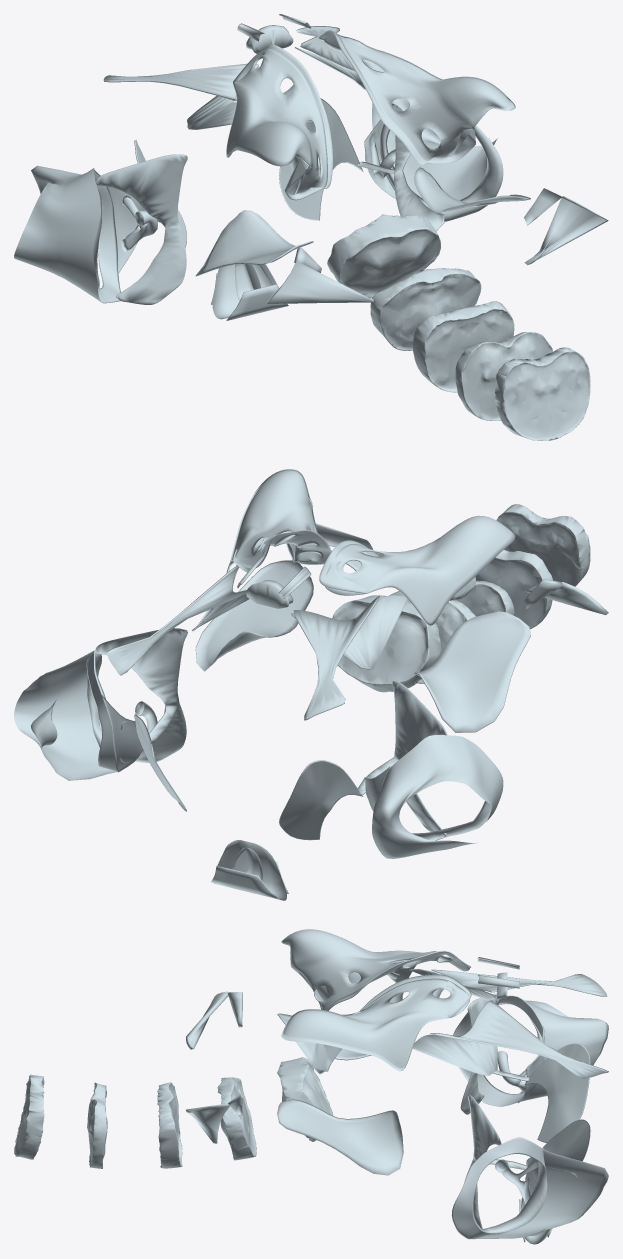
The model's file is abdomen__joints.778252c00b.glb.
3 views of the same model, one above another, from view 1: azimuth 30°, elevation 25°; view 2: azimuth 150°, elevation 25°; view 3: azimuth 270°, elevation 25° (orthographic). The views are drawn at different scales.
Parts seen in each view (by area): view 1: Posterior sacro-iliac ligament.l, Posterior sacro-iliac ligament.r, Articular capsule of hip joint.r, Intervertebral disc L1-L2, Intervertebral disc L5-S1, Triradiate cartilage.r, Intervertebral disc L4-L5, Intervertebral disc L3-L4, Intervertebral disc L2-L3, Anterior sacro-iliac ligament.r, Articular capsule of hip joint.l, Iliolumbar ligament.r (+16 smaller); view 2: Posterior sacro-iliac ligament.r, Anterior sacro-iliac ligament.r, Articular capsule of hip joint.r, Articular capsule of hip joint.l, Posterior sacro-iliac ligament.l, Anterior sacro-iliac ligament.l, Intervertebral disc L5-S1, Triradiate cartilage.l, Intervertebral disc L1-L2, Obturator membrane.r, Sacrotuberous ligament.r, Triradiate cartilage.r (+15 smaller); view 3: Posterior sacro-iliac ligament.l, Posterior sacro-iliac ligament.r, Anterior sacro-iliac ligament.l, Articular capsule of hip joint.l, Acetabular labrum.l, Obturator membrane.r, Sacrotuberous ligament.l, Articular capsule of hip joint.r, Sacrospinous ligament.l, Intervertebral disc L4-L5, Intervertebral disc L5-S1, Intervertebral disc L1-L2 (+11 smaller).
Boxes of the visible parts, bbox=[...] form: Posterior sacro-iliac ligament.l: bbox=[319, 30, 515, 164]; Posterior sacro-iliac ligament.r: bbox=[226, 44, 332, 200]; Articular capsule of hip joint.r: bbox=[14, 165, 101, 302]; Intervertebral disc L1-L2: bbox=[495, 347, 590, 440]; Intervertebral disc L5-S1: bbox=[327, 214, 440, 298]; Triradiate cartilage.r: bbox=[95, 154, 187, 304]; Intervertebral disc L4-L5: bbox=[370, 268, 481, 350]; Intervertebral disc L3-L4: bbox=[412, 301, 514, 392]; Intervertebral disc L2-L3: bbox=[455, 332, 553, 420]; Anterior sacro-iliac ligament.r: bbox=[195, 210, 313, 276]; Articular capsule of hip joint.l: bbox=[372, 103, 497, 200]; Iliolumbar ligament.r: bbox=[266, 247, 374, 303]; Posterior sacro-iliac ligament.r: bbox=[319, 515, 515, 625]; Anterior sacro-iliac ligament.r: bbox=[414, 611, 530, 732]; Articular capsule of hip joint.r: bbox=[372, 735, 503, 858]; Articular capsule of hip joint.l: bbox=[14, 650, 117, 780]; Posterior sacro-iliac ligament.l: bbox=[226, 469, 331, 573]; Anterior sacro-iliac ligament.l: bbox=[195, 560, 313, 671]; Intervertebral disc L5-S1: bbox=[332, 595, 440, 692]; Triradiate cartilage.l: bbox=[95, 628, 187, 762]; Intervertebral disc L1-L2: bbox=[496, 504, 590, 586]; Obturator membrane.r: bbox=[279, 760, 363, 840]; Sacrotuberous ligament.r: bbox=[293, 595, 379, 720]; Triradiate cartilage.r: bbox=[358, 681, 447, 836]; Posterior sacro-iliac ligament.l: bbox=[281, 974, 471, 1074]; Posterior sacro-iliac ligament.r: bbox=[281, 929, 470, 1010]; Anterior sacro-iliac ligament.l: bbox=[277, 1099, 403, 1175]; Articular capsule of hip joint.l: bbox=[474, 1148, 608, 1239]; Acetabular labrum.l: bbox=[451, 1137, 547, 1239]; Obturator membrane.r: bbox=[524, 1043, 590, 1142]; Sacrotuberous ligament.l: bbox=[430, 1001, 608, 1078]; Articular capsule of hip joint.r: bbox=[516, 999, 608, 1102]; Sacrospinous ligament.l: bbox=[412, 1000, 497, 1075]; Intervertebral disc L4-L5: bbox=[217, 1077, 256, 1160]; Intervertebral disc L5-S1: bbox=[277, 1057, 333, 1141]; Intervertebral disc L1-L2: bbox=[14, 1074, 44, 1159].
Size of the model in its own units: 234 by 143 by 288.
